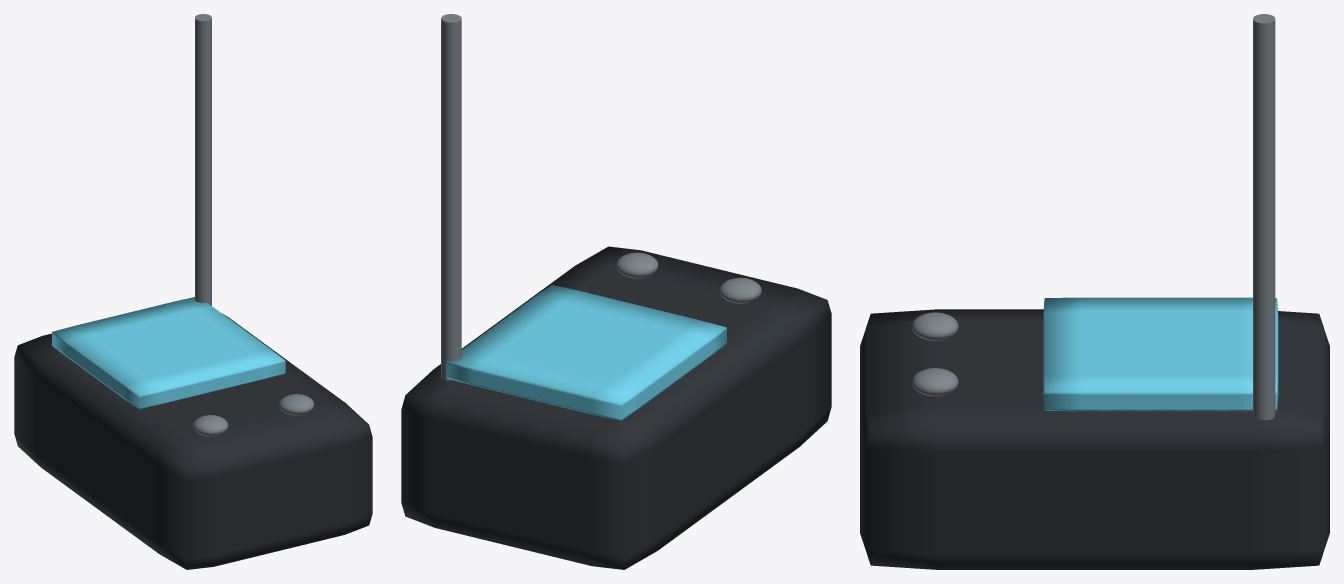
The model's file is SM_SurveyReceiver.glb.
3 views of the same model, side by side, from view 1: azimuth 30°, elevation 25°; view 2: azimuth 150°, elevation 25°; view 3: azimuth 270°, elevation 25° (orthographic). The views are drawn at different scales.
Visible parts, largest first — view 1: SM_SurveyReceiver; view 2: SM_SurveyReceiver; view 3: SM_SurveyReceiver.
Boxes of the visible parts, x1,y1,x2,y2 form: SM_SurveyReceiver: (14, 14, 372, 569); SM_SurveyReceiver: (401, 14, 831, 569); SM_SurveyReceiver: (860, 14, 1329, 569).
Bounding box in the file's own units: 0.32 × 0.64 × 0.5.
